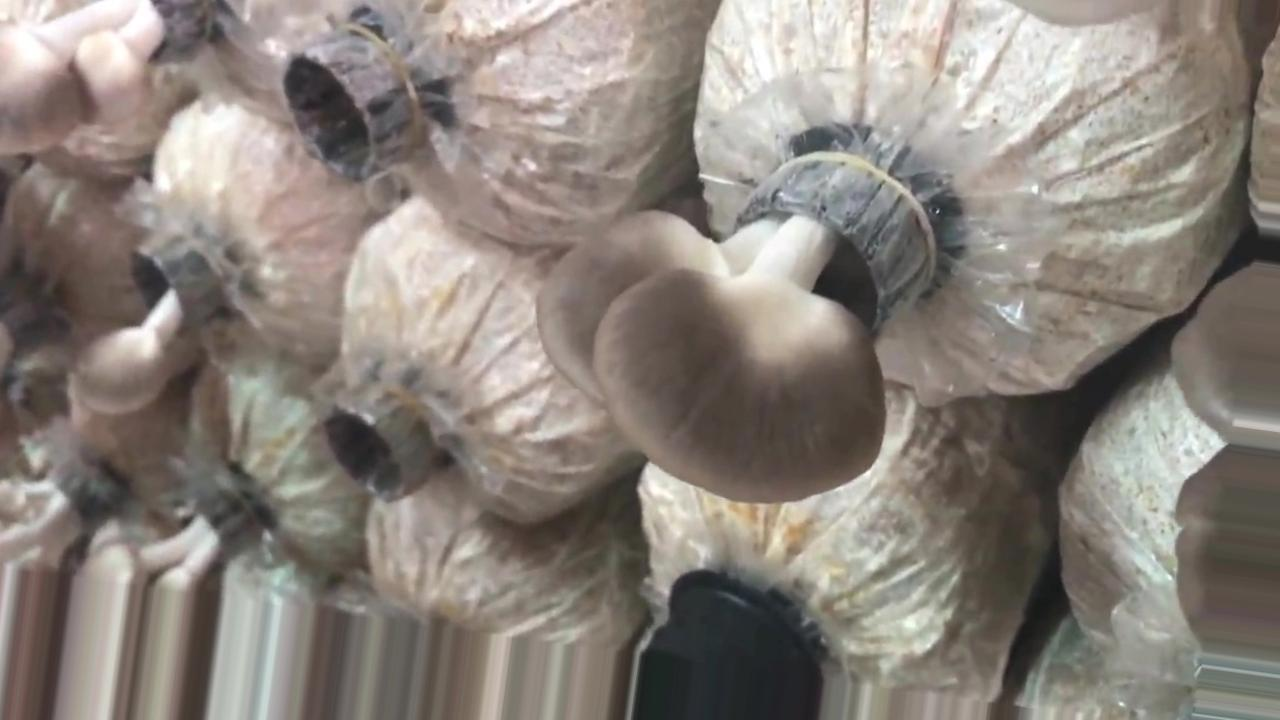nam: (538, 157, 930, 499), (1, 1, 218, 159), (77, 232, 211, 413), (1171, 446, 1277, 653), (1171, 263, 1280, 443)
